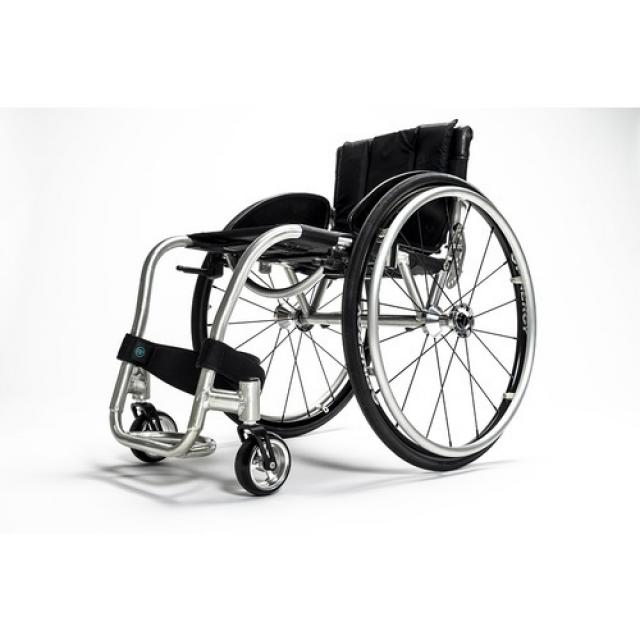wheelchair: (89, 101, 562, 512)
